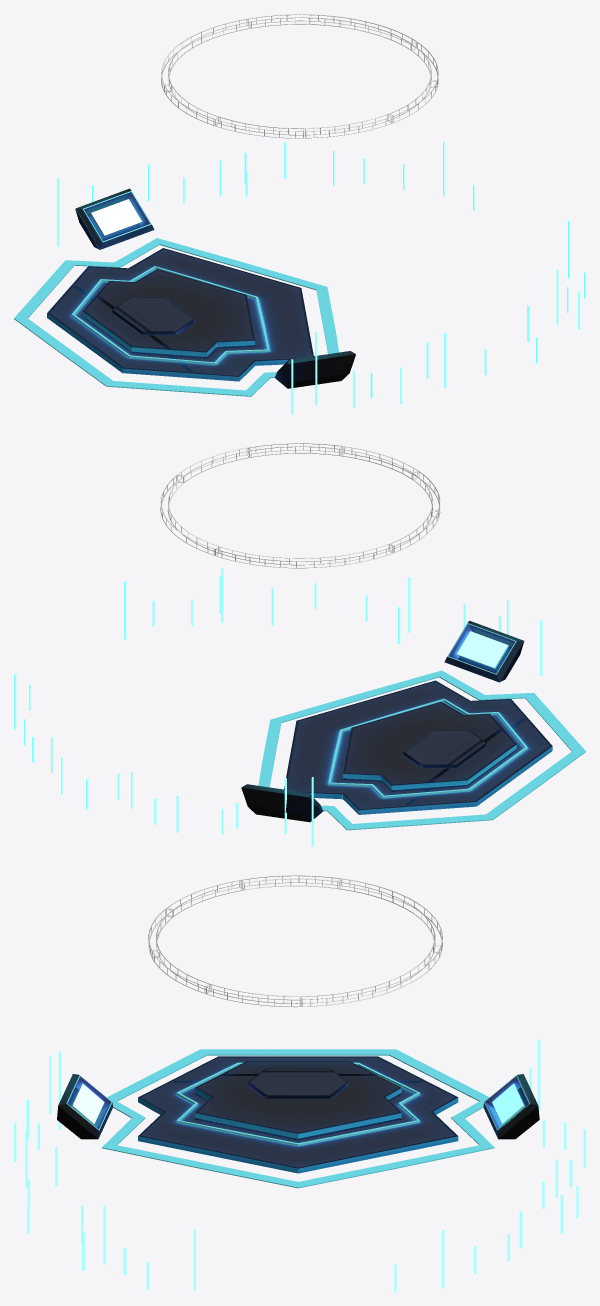
File: DOM Stage.fbx
3 views of the same model, one above another, from view 1: azimuth 30°, elevation 25°; view 2: azimuth 150°, elevation 25°; view 3: azimuth 270°, elevation 25° (orthographic). The views are drawn at different scales.
Visible parts, largest first — view 1: DOM_Stage; view 2: DOM_Stage; view 3: DOM_Stage.
Boxes of the visible parts, left/top/right/bottom form: DOM_Stage: left=14, top=14, right=585, bottom=414; DOM_Stage: left=14, top=443, right=585, bottom=846; DOM_Stage: left=14, top=875, right=585, bottom=1291.
Bounding box in the file's own units: 27.51 × 13.03 × 27.89.
Materials: 8 (6 with a texture image).
